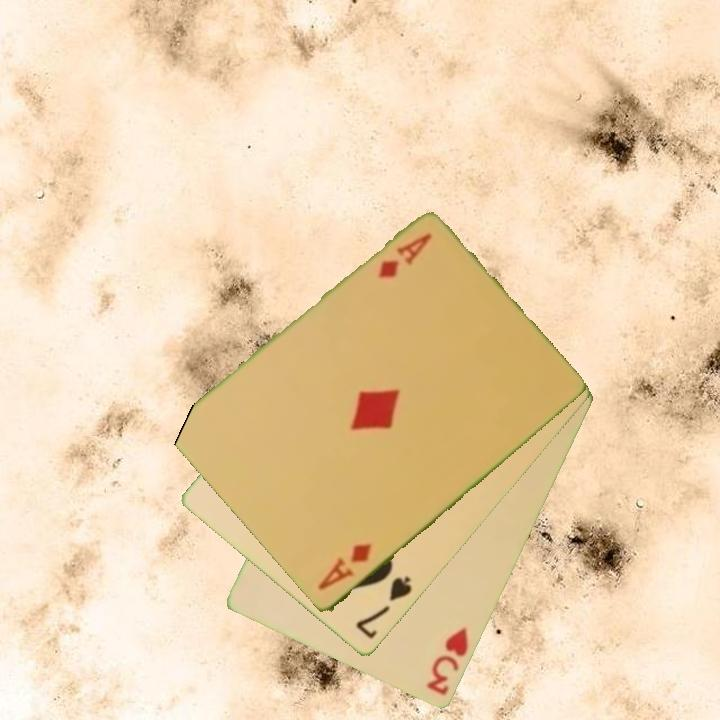3h: (423, 624, 472, 699)
7s: (352, 572, 415, 642)
Ad: (314, 540, 375, 594), (374, 230, 435, 282)
